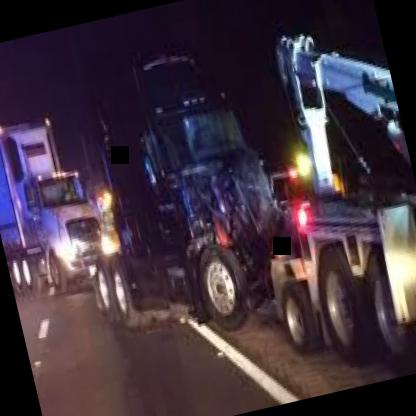accident: (87, 6, 416, 396)
